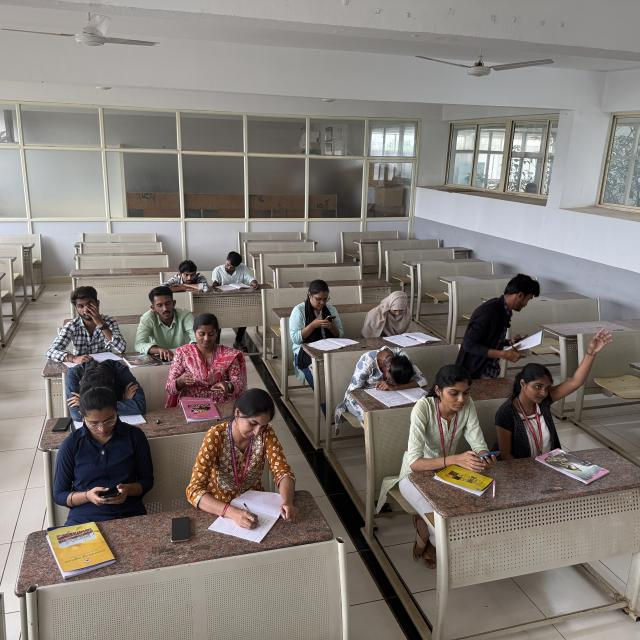Hand Rising: (500, 314, 618, 441)
Sleeping: (54, 355, 146, 411), (350, 343, 428, 393), (157, 257, 216, 293)
Using Phone: (54, 389, 152, 518), (406, 365, 502, 473), (165, 312, 248, 394), (289, 278, 356, 347)
Writing: (186, 396, 293, 542), (210, 250, 262, 298)
